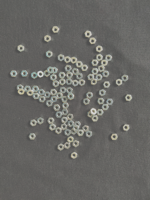nut: (52, 26, 60, 33), (85, 31, 93, 38), (44, 35, 51, 43), (18, 45, 25, 53), (81, 65, 89, 72), (105, 55, 113, 62), (102, 71, 110, 78), (91, 78, 98, 86), (66, 72, 74, 79), (67, 93, 75, 100), (61, 109, 69, 116), (106, 99, 114, 106), (90, 108, 97, 116), (111, 134, 119, 141), (77, 130, 85, 137), (64, 142, 71, 150), (71, 152, 78, 160), (46, 51, 53, 58), (96, 46, 103, 53), (64, 56, 71, 63), (76, 61, 83, 68), (97, 54, 104, 61), (101, 60, 108, 67), (98, 65, 105, 72), (92, 68, 99, 75), (96, 74, 103, 81), (88, 74, 95, 81), (31, 72, 38, 79), (37, 71, 44, 78), (47, 67, 54, 74), (51, 67, 58, 74), (65, 65, 72, 72), (72, 68, 79, 75), (76, 73, 83, 80), (59, 72, 66, 79), (50, 74, 57, 81), (53, 81, 60, 88), (59, 79, 66, 86), (72, 80, 79, 87), (79, 79, 86, 86), (116, 79, 123, 86), (122, 75, 129, 82), (32, 86, 39, 93), (38, 89, 45, 96), (33, 93, 40, 100), (39, 96, 46, 103), (50, 89, 57, 96), (51, 96, 58, 103), (46, 100, 53, 107), (99, 90, 106, 97), (98, 98, 105, 105), (102, 104, 109, 111), (97, 109, 104, 116), (67, 114, 74, 121), (123, 125, 130, 132), (37, 118, 44, 125), (30, 120, 37, 127), (29, 133, 36, 140), (49, 124, 56, 131), (55, 127, 62, 134), (68, 121, 75, 128), (61, 124, 68, 131), (73, 125, 80, 132), (71, 128, 78, 135), (86, 131, 93, 138), (89, 38, 97, 44), (58, 54, 64, 62), (10, 71, 18, 77), (125, 95, 133, 101), (71, 57, 77, 64), (92, 60, 99, 66), (21, 71, 28, 77), (44, 70, 50, 77), (66, 79, 73, 85), (104, 82, 111, 88), (17, 85, 24, 91), (18, 89, 25, 95), (24, 86, 31, 92), (27, 90, 34, 96), (44, 92, 51, 98), (60, 87, 66, 94), (67, 87, 73, 94), (56, 93, 63, 99), (61, 97, 68, 103), (62, 103, 69, 109), (54, 105, 61, 111), (56, 112, 63, 118), (87, 92, 93, 99), (83, 99, 90, 105), (92, 116, 99, 122), (48, 118, 55, 124), (62, 117, 68, 124), (65, 129, 71, 136), (74, 122, 81, 128), (83, 125, 89, 132), (67, 137, 74, 143), (73, 141, 79, 148), (58, 144, 64, 151), (88, 112, 94, 118)
